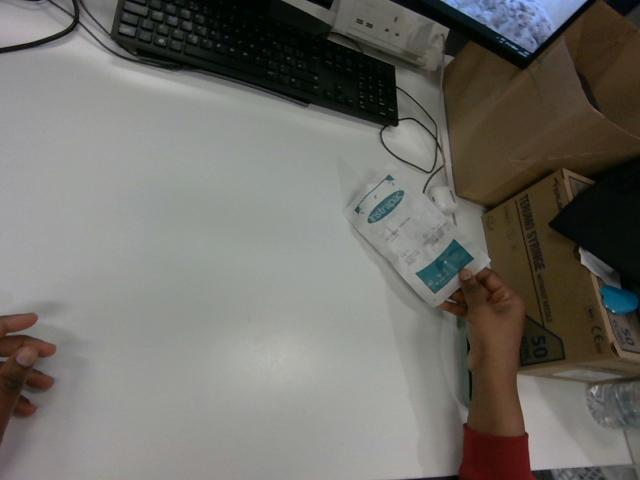gallipot: (345, 171, 489, 305)
